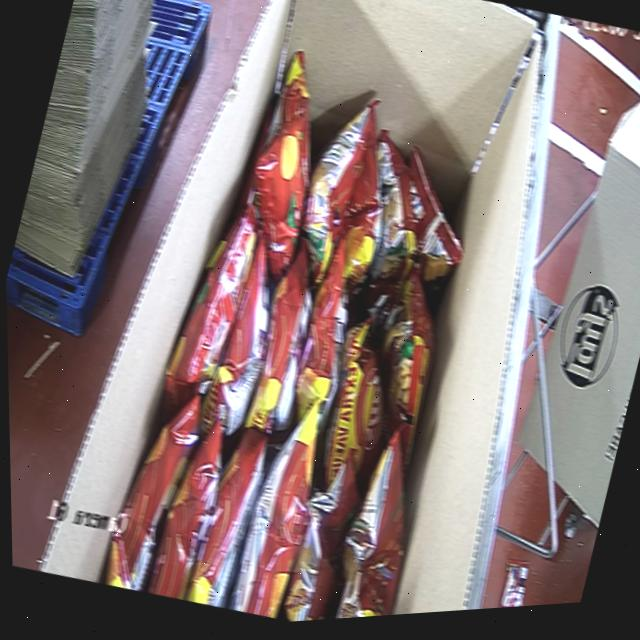MASALA: (87, 18, 528, 634)
